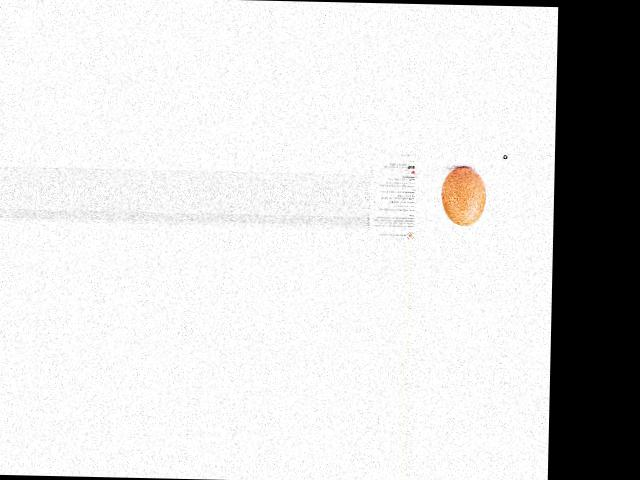egg: (440, 166, 486, 225)
